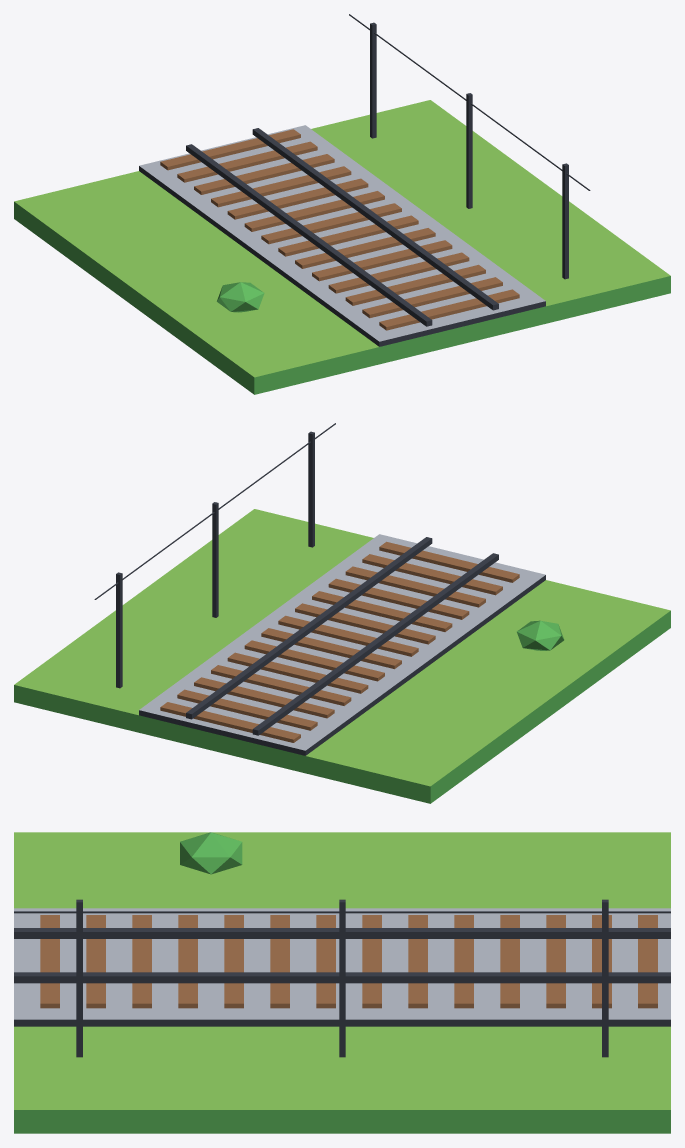
File: rail_straight.glb
3 renders of one model, top to bottom at view 1: azimuth 30°, elevation 25°; view 2: azimuth 150°, elevation 25°; view 3: azimuth 270°, elevation 25°, orthographic. The views are drawn at different scales.
Visible parts, largest first — view 1: rail_straight; view 2: rail_straight; view 3: rail_straight.
Boxes of the visible parts, bbox=[...] form: rail_straight: bbox=[14, 14, 670, 394]; rail_straight: bbox=[14, 423, 670, 803]; rail_straight: bbox=[14, 832, 670, 1133].
Size of the model in its own units: 1 by 0.3 by 1.
